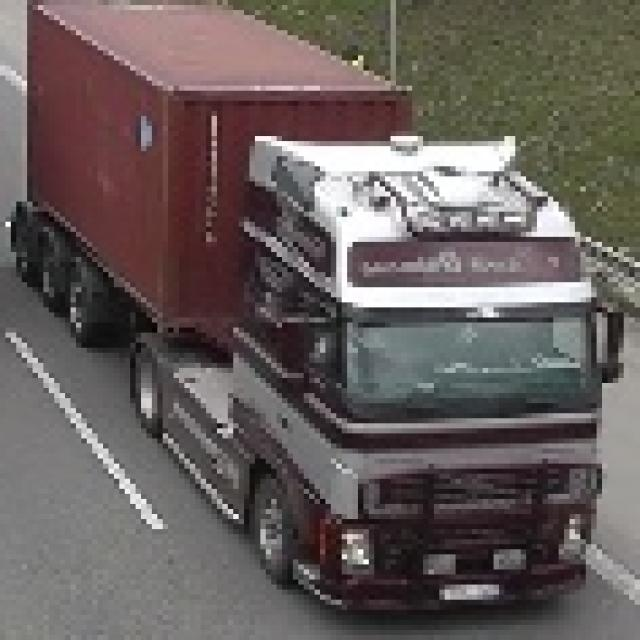TRUCK: (19, 6, 622, 610)
